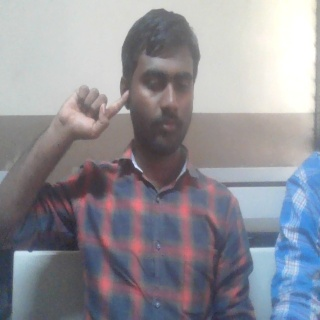Deaf: (53, 83, 129, 142)
Face: (117, 7, 202, 163)
